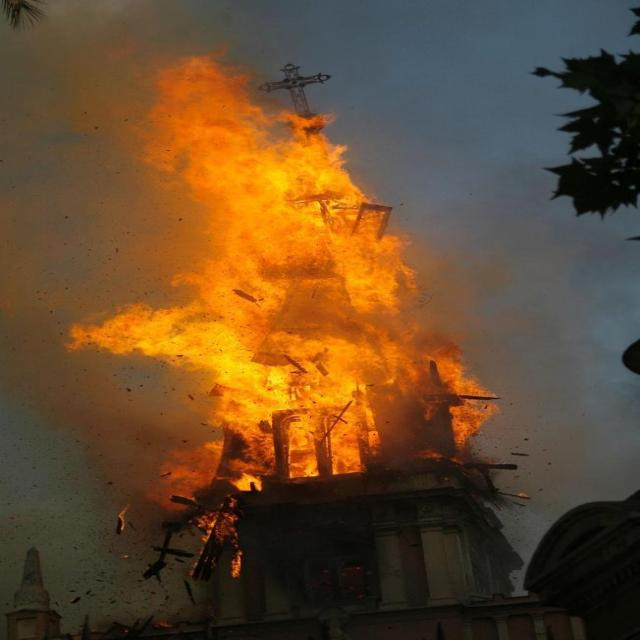fire: (104, 43, 506, 561)
